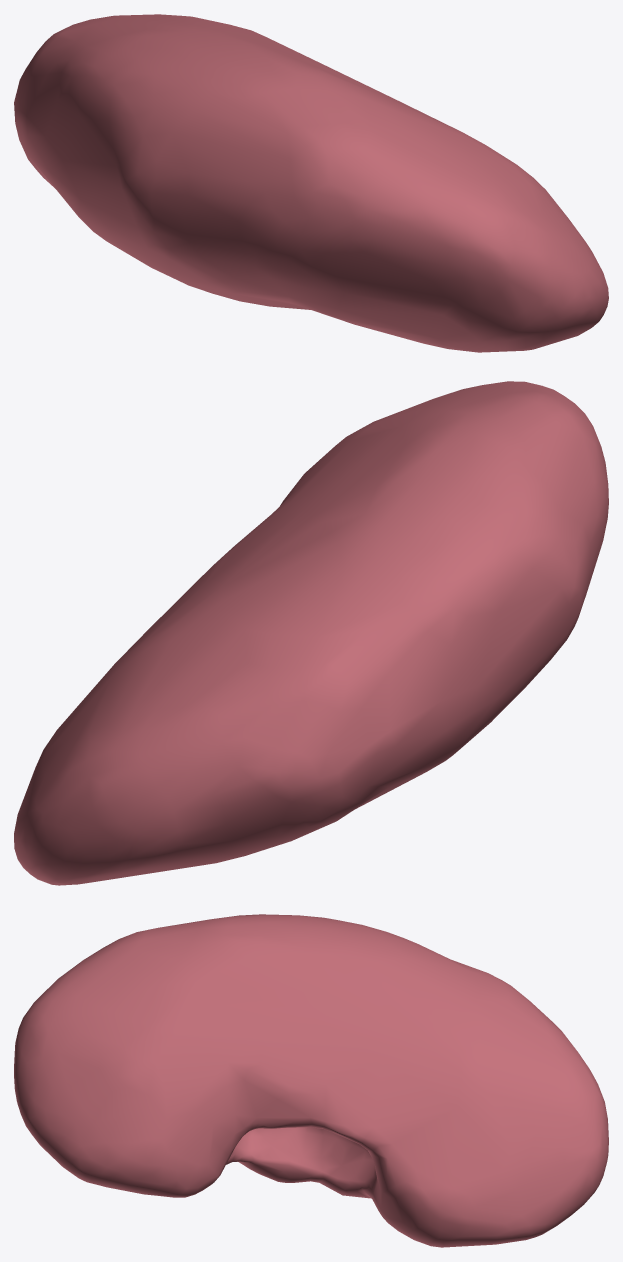
The picture shows the model from 3 angles, top to bottom: view 1: azimuth 30°, elevation 25°; view 2: azimuth 150°, elevation 25°; view 3: azimuth 270°, elevation 25°; orthographic projection. The views are drawn at different scales.
Parts seen in each view (by area): view 1: 右侧肾; view 2: 右侧肾; view 3: 右侧肾.
Boxes of the visible parts, x1,y1,x2,y2 form: 右侧肾: (14, 14, 608, 352); 右侧肾: (14, 381, 608, 885); 右侧肾: (14, 914, 608, 1247).
Size of the model in its own units: 0.0842 by 0.0695 by 0.1539.
